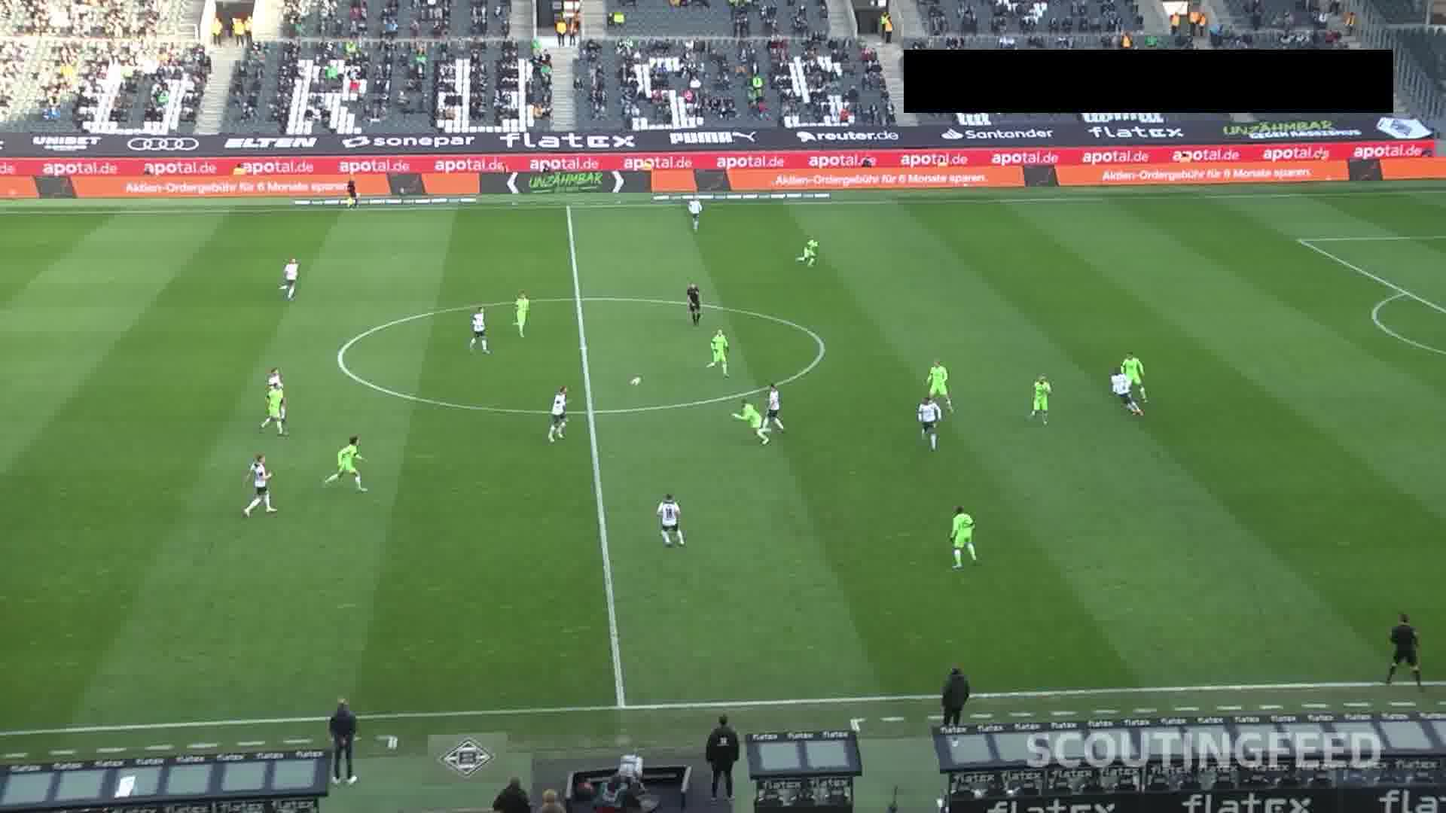ball: (621, 371, 649, 398)
coach_staff: (695, 708, 739, 790), (326, 699, 365, 779), (940, 667, 982, 738)
player: (325, 433, 370, 502), (941, 504, 984, 571), (646, 488, 689, 551), (242, 452, 276, 526), (535, 388, 580, 442), (1120, 346, 1161, 404), (694, 326, 738, 379), (1019, 374, 1061, 429), (462, 299, 496, 355), (1107, 370, 1141, 423), (759, 381, 792, 435), (913, 394, 945, 449), (734, 399, 769, 448), (929, 353, 958, 409), (274, 258, 306, 306), (508, 286, 535, 341), (790, 232, 825, 274), (678, 196, 712, 233), (262, 389, 284, 432), (266, 366, 292, 390)
referee: (1384, 612, 1421, 686), (682, 279, 705, 321), (339, 173, 363, 213)
